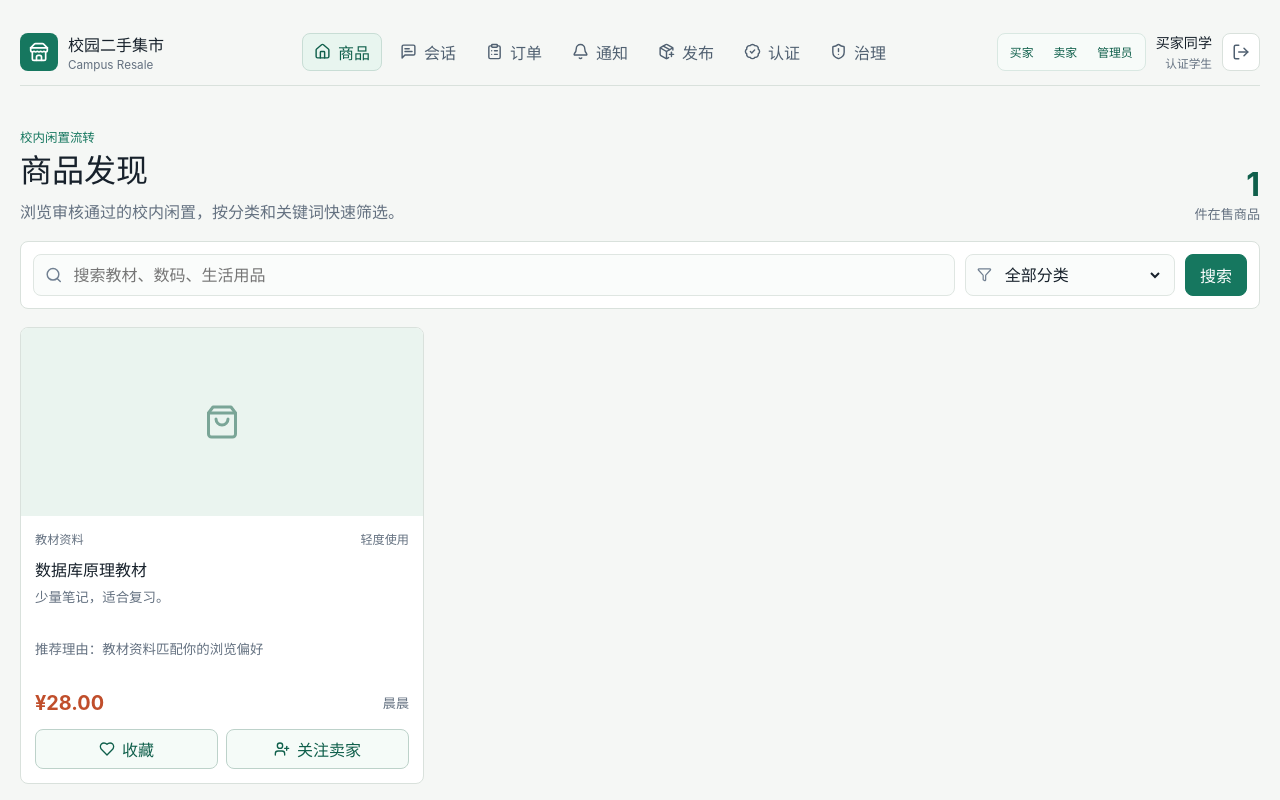
App › shows an orders workspace for authenticated trade users
Expected: the text "买家同学" is shown, [1156,32,1212,52]
What coordinates should you click on to do the following:
click the button "订单"
I would click on:
 (514, 52)
Its box is [474,32,554,70].
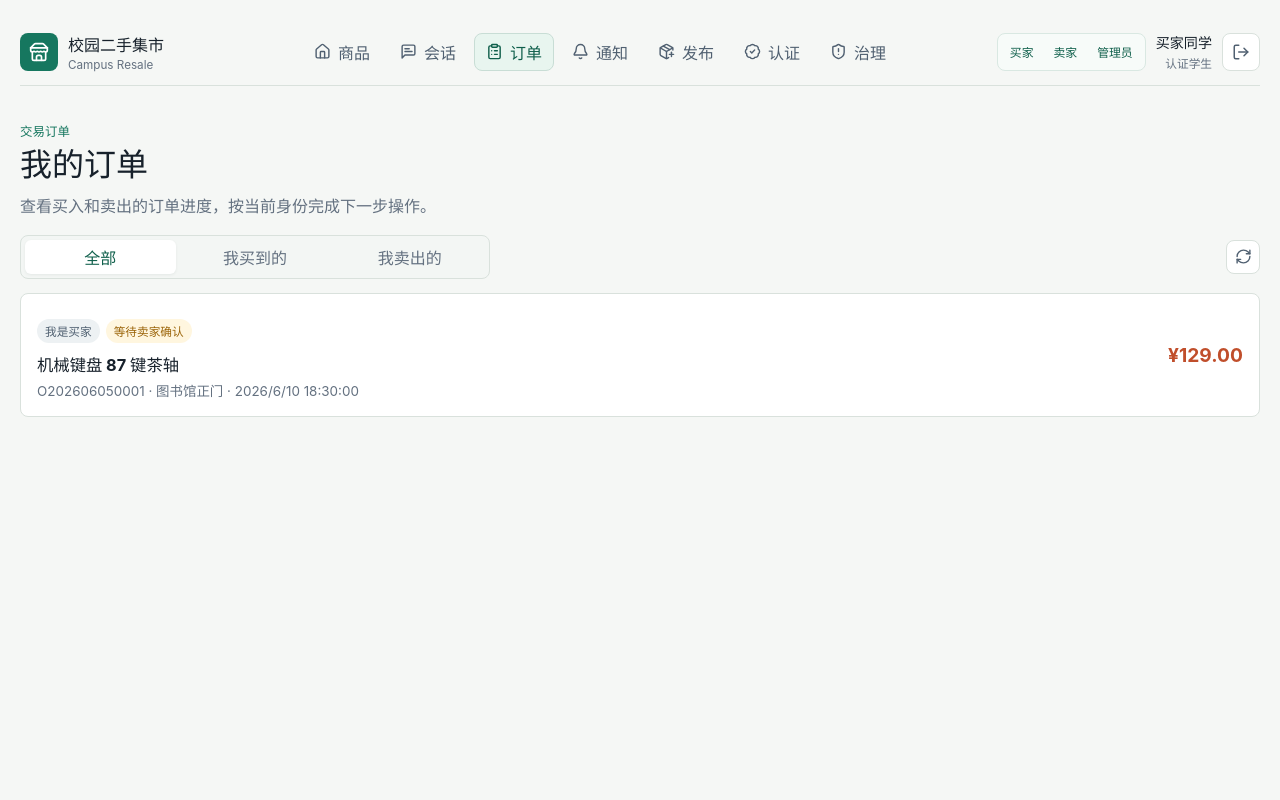
Result: the heading "我的订单" is shown at [20,145,148,184]
Result: the button "我买到的" is shown at [180,240,330,274]
Result: the heading "机械键盘 87 键茶轴" is shown at [37,355,179,375]
